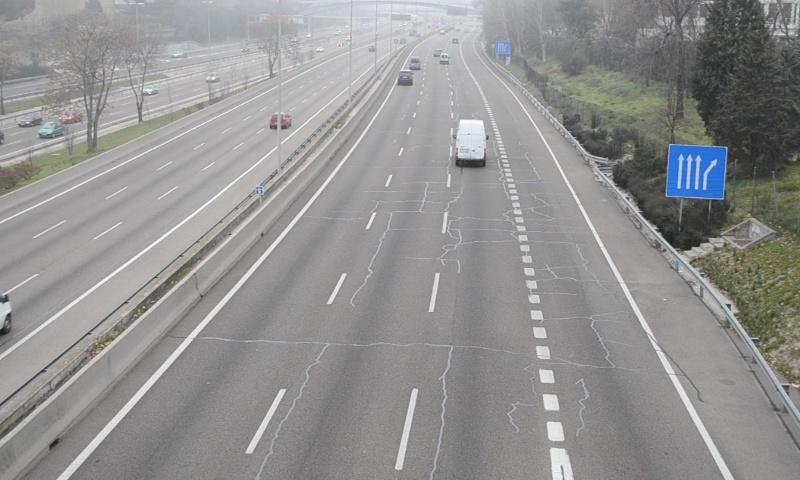car: (396, 69, 413, 86)
van: (454, 119, 488, 164)
